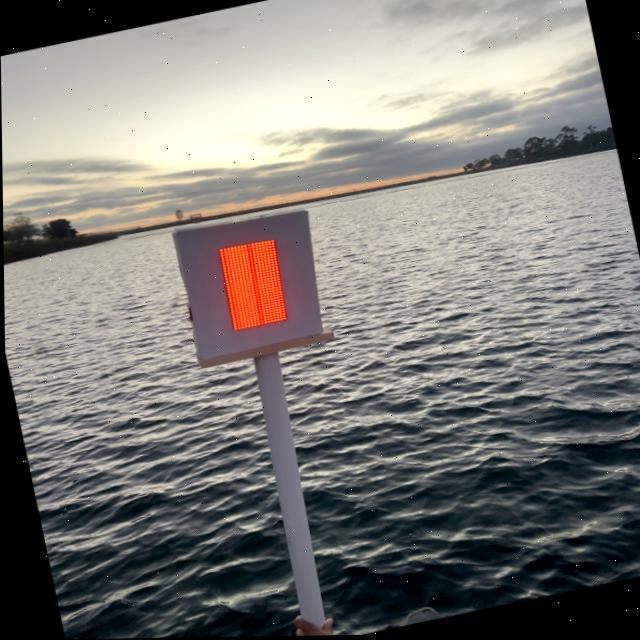led: (186, 215, 311, 356)
